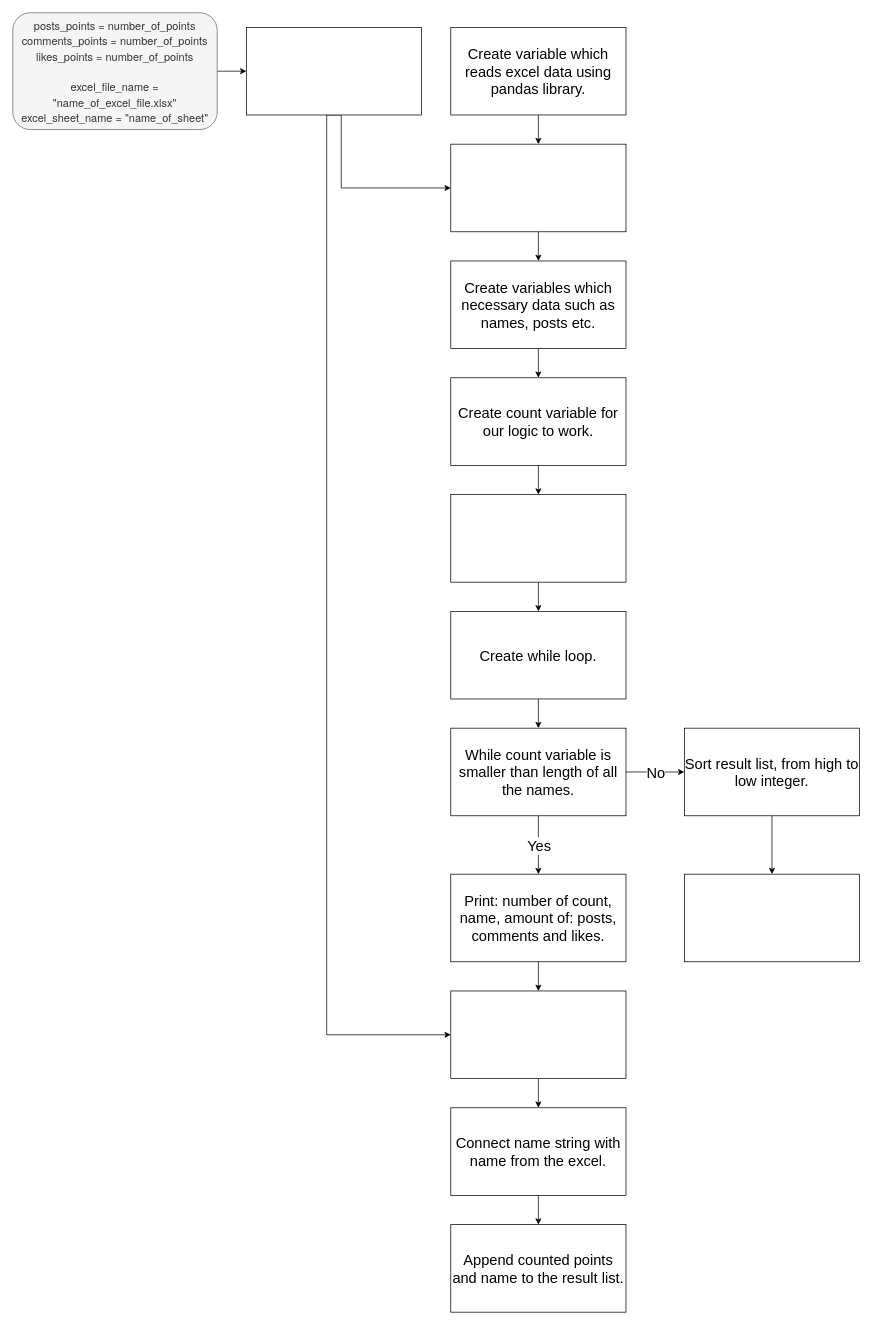
Some shapes in this 872 by 1325 pixel diagram are drawn without their labels. Each missing label, with the centre of its shape:
"Config file with necessary script configuration." goes at point 334,71.
"Create list with results." goes at point 538,538.
"Multiply all of the points by given arguments and count them." goes at point 538,1034.
"Print result list." goes at point 772,917.
"Read data from given arguments." goes at point 538,187.
